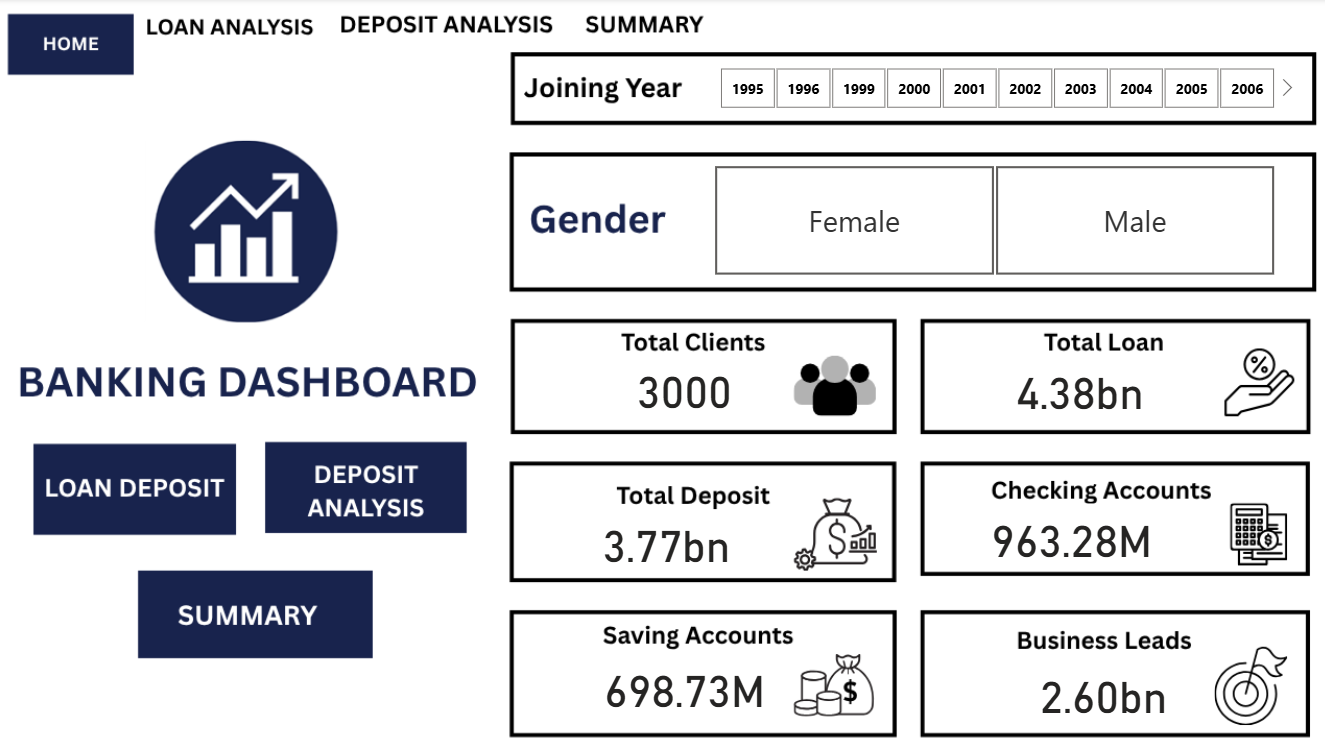

The page's visual inventory and layout, read from the dashboard file:
{"tool":"powerbi","page":{"name":"Home","canvas":[1280,720],"ordinal":1},"visuals":[{"type":"slicer","fields":{"Values":["Banking_Clients.GenderId"]},"box":[661.7,154.4,586,118.1],"z":0},{"type":"card","fields":{"Values":["CountNonNull(Banking_Clients.IAId)"]},"box":[564.8,342.2,184.7,62.1],"z":1000},{"type":"card","fields":{"Values":["Sum(Banking_Clients.Business Lending)"]},"box":[955.5,637.5,209,57.5],"z":2000},{"type":"card","fields":{"Values":["Sum(Banking_Clients.Checking Accounts)"]},"box":[893.4,484.5,271,63.6],"z":3000},{"type":"card","fields":{"Values":["Banking_Clients.Total loan"]},"box":[908.5,343.7,255.9,62.1],"z":4000},{"type":"card","fields":{"Values":["Banking_Clients.Total Deposit"]},"box":[519.4,495.1,242.3,53],"z":5000},{"type":"slicer","fields":{"Values":["Banking_Clients.Joined Bank.Variation.Date Hierarchy.Year"]},"box":[667.8,60.6,579.9,51.5],"z":6000},{"type":"card","fields":{"Values":["Sum(Banking_Clients.Saving Accounts)"]},"box":[564.8,625.4,184.7,69.7],"z":7000},{"type":"actionButton","box":[41.7,444.4,191.3,44.6],"z":8000},{"type":"actionButton","box":[279,434.3,145.2,71.9],"z":9000},{"type":"actionButton","box":[153.9,568.1,156.8,43.1],"z":10000}]}

Visuals, with their boxes in screenshot pixels (x1, y1, x2, y2), scaled from the page's 1280x720 canvas onto the 1325x740 screenshot:
slicer - Banking_Clients.GenderId: [685, 159, 1292, 280]
card - CountNonNull(Banking_Clients.IAId): [585, 352, 776, 416]
card - Sum(Banking_Clients.Business Lending): [989, 655, 1205, 714]
card - Sum(Banking_Clients.Checking Accounts): [925, 498, 1205, 563]
card - Banking_Clients.Total loan: [940, 353, 1205, 417]
card - Banking_Clients.Total Deposit: [538, 509, 788, 563]
slicer - Banking_Clients.Joined Bank.Variation.Date Hierarchy.Year: [691, 62, 1292, 115]
card - Sum(Banking_Clients.Saving Accounts): [585, 643, 776, 714]
actionButton: [43, 457, 241, 503]
actionButton: [289, 446, 439, 520]
actionButton: [159, 584, 322, 628]
